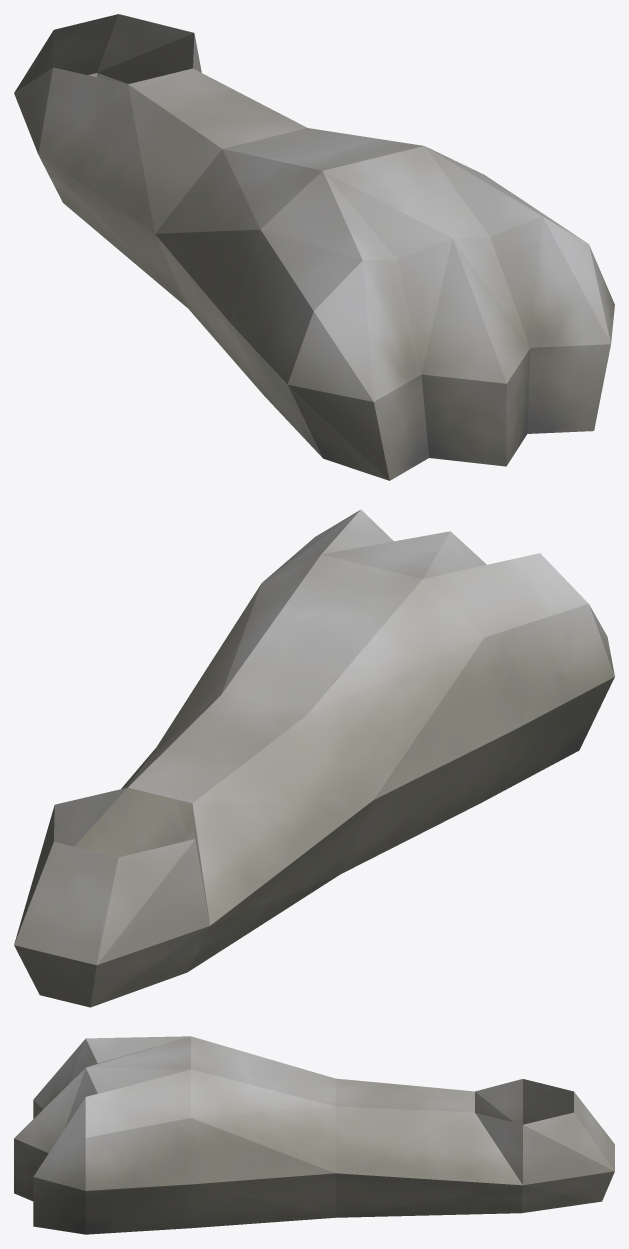
File: WhiteRabbitFoot.obj
3 renders of one model, top to bottom at view 1: azimuth 30°, elevation 25°; view 2: azimuth 150°, elevation 25°; view 3: azimuth 270°, elevation 25°, orthographic. The views are drawn at different scales.
Parts seen in each view (by area): view 1: Mesh.004_rdmobj04.004; view 2: Mesh.004_rdmobj04.004; view 3: Mesh.004_rdmobj04.004.
Part boxes in pixels (bbox=[...]): Mesh.004_rdmobj04.004: bbox=[14, 14, 614, 480]; Mesh.004_rdmobj04.004: bbox=[14, 509, 614, 1007]; Mesh.004_rdmobj04.004: bbox=[14, 1036, 614, 1234].
Bounding box in the file's own units: 10.38 × 6.39 × 24.78.
